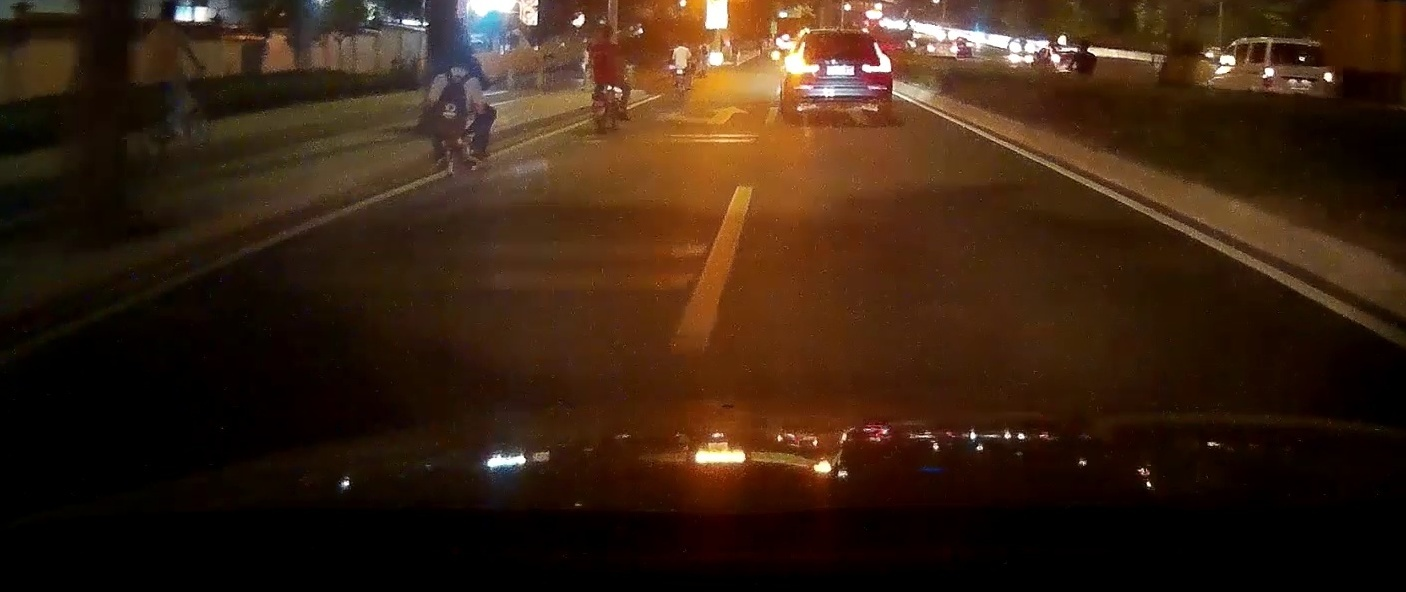L_light: (795, 42, 819, 73), (1264, 67, 1273, 85)
R_light: (862, 42, 891, 72), (1325, 73, 1333, 88)
T_light: (831, 34, 846, 37), (1296, 45, 1309, 48)
night-left: (783, 30, 892, 120)
night-no: (1262, 39, 1342, 99)
